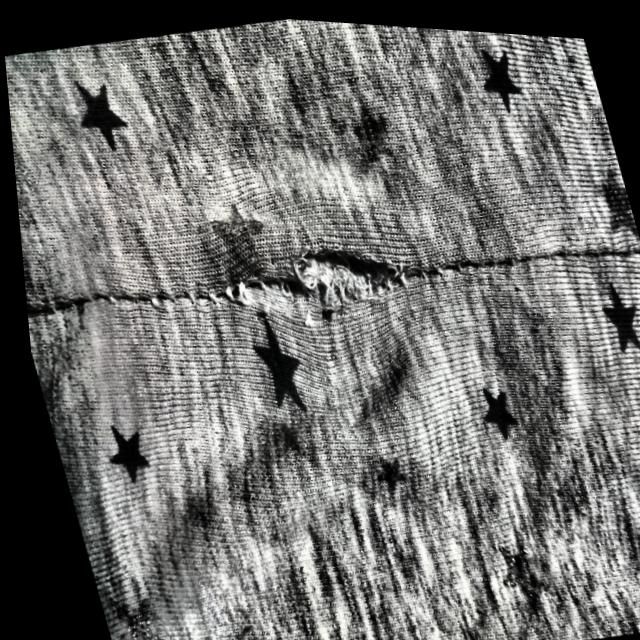Stitch: (185, 195, 436, 353)
